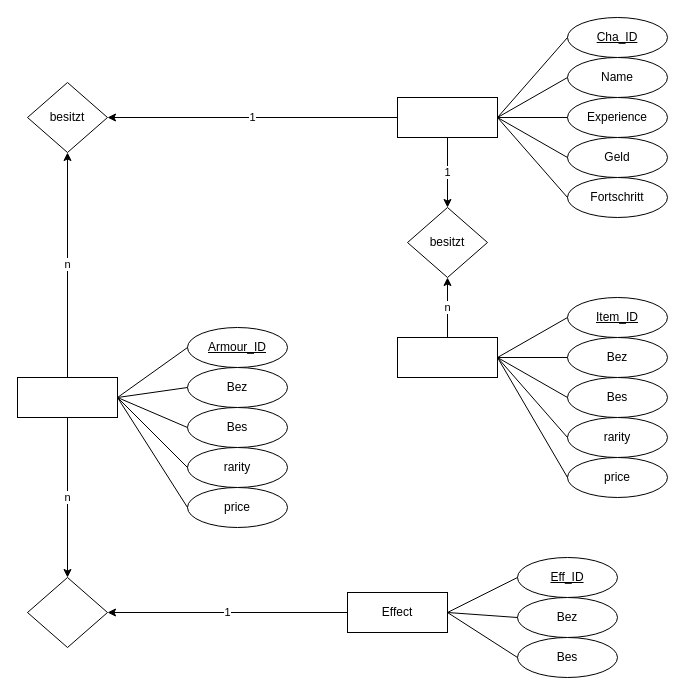
Image size: 685x695. Some labels were removed from this diagram. The shapes that lost their labels are listed below. From the top down, each one's centre as x and y in pixels, then its label:
At (447,117): "Charakter".
At (447,357): "Item".
At (67,397): "Armour".
At (67,612): "Hat".
